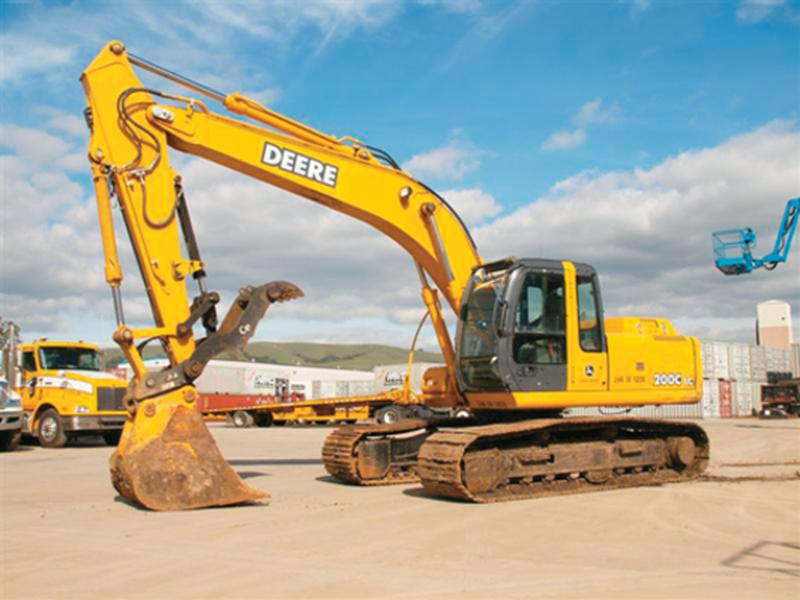shovel: (75, 34, 719, 514)
